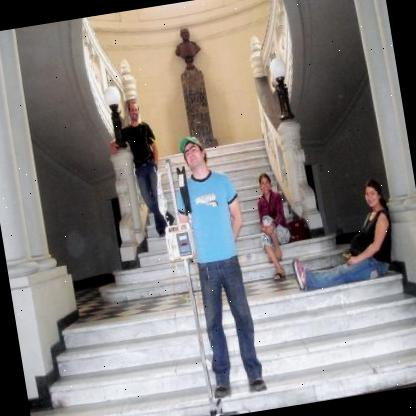person: (165, 126, 272, 405), (280, 178, 402, 293), (112, 94, 173, 242), (245, 165, 298, 285)
stair: (34, 262, 416, 416)
